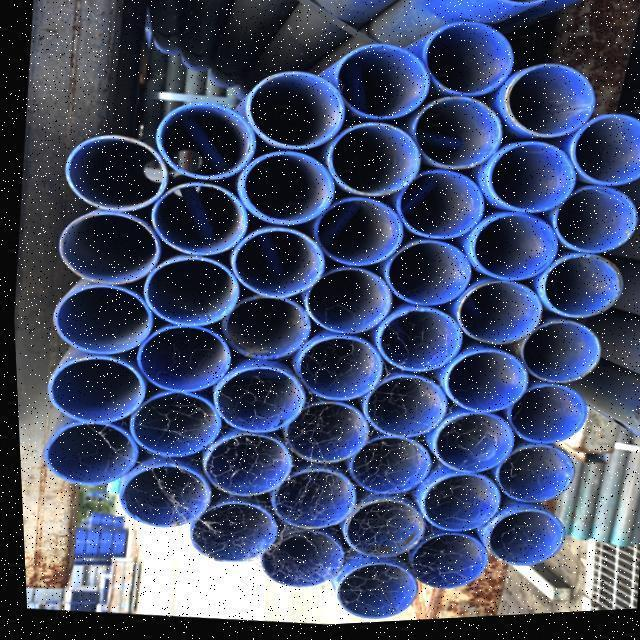pipe: (64, 134, 167, 216), (58, 209, 160, 289), (244, 72, 343, 154), (51, 281, 151, 360), (153, 104, 255, 181), (332, 44, 427, 125), (45, 350, 147, 423), (41, 418, 136, 496), (398, 169, 484, 253), (327, 124, 419, 202), (139, 258, 238, 330), (240, 152, 332, 228), (421, 28, 513, 104), (149, 184, 245, 256), (134, 324, 230, 394), (212, 365, 304, 438), (228, 229, 321, 300), (278, 394, 371, 465), (412, 101, 501, 175), (312, 199, 400, 273), (487, 146, 577, 218), (506, 68, 593, 142), (114, 463, 209, 530), (376, 307, 463, 377), (202, 431, 294, 497), (295, 336, 379, 408), (300, 271, 388, 339), (218, 297, 308, 363), (383, 243, 473, 309), (130, 390, 217, 457), (472, 217, 557, 285), (557, 188, 638, 259), (181, 503, 271, 565), (437, 354, 524, 418), (457, 283, 543, 347), (538, 258, 619, 324), (335, 502, 419, 565), (517, 326, 597, 392), (425, 417, 510, 479), (366, 378, 448, 442), (268, 472, 354, 533), (568, 121, 640, 193), (330, 565, 417, 622), (255, 532, 339, 591), (417, 474, 500, 533), (501, 388, 584, 447), (348, 439, 430, 498), (491, 449, 572, 508), (485, 512, 564, 570), (403, 535, 486, 590)
